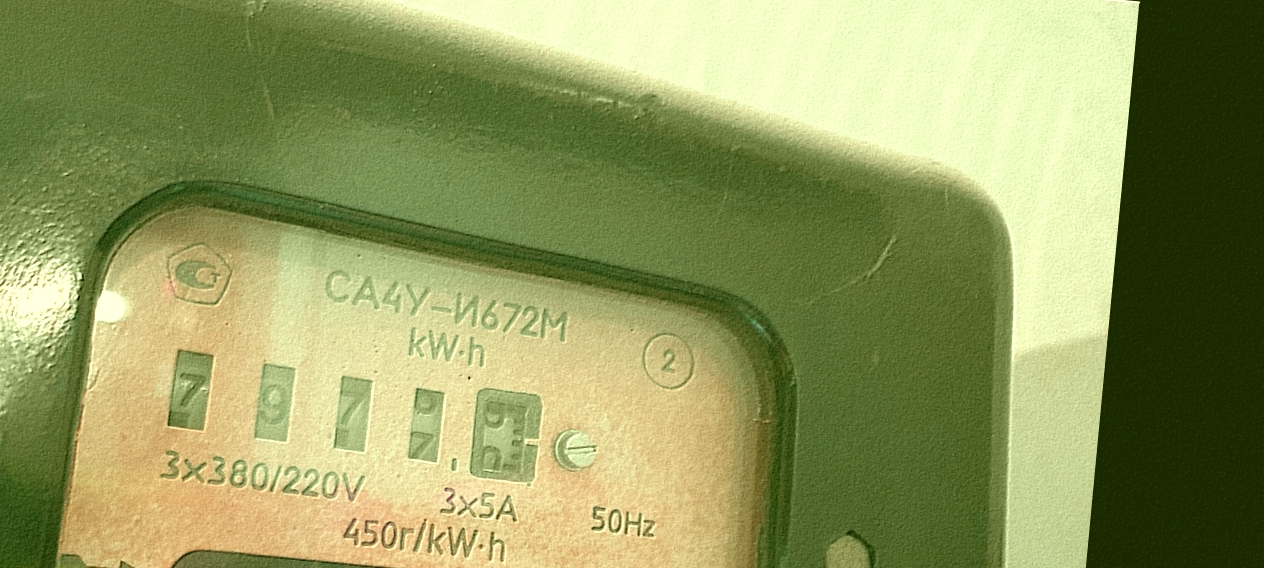0: (478, 442, 503, 473)
7: (171, 367, 209, 415), (405, 422, 439, 466), (336, 387, 368, 430)
9: (256, 380, 291, 430), (480, 398, 513, 433)
screen: (151, 336, 562, 500)
